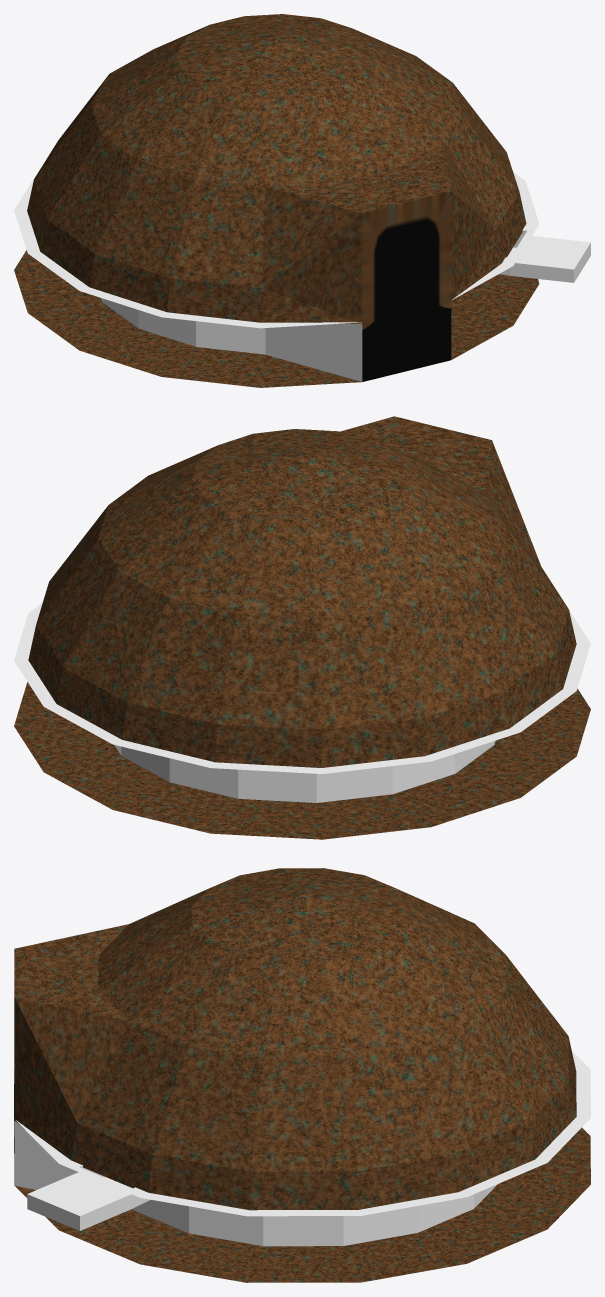
File: dome.glb
The picture shows the model from 3 angles, top to bottom: view 1: azimuth 30°, elevation 25°; view 2: azimuth 150°, elevation 25°; view 3: azimuth 270°, elevation 25°; orthographic projection. The views are drawn at different scales.
Visible parts, largest first — view 1: Sphere, Cylinder, Sphere.002, Cylinder.001; view 2: Sphere, Cylinder, Cylinder.001; view 3: Sphere, Cylinder, Cylinder.001.
Part boxes in pixels (box(x1,y1,x2,y2)): Sphere: box(27, 14, 526, 323); Cylinder: box(14, 250, 539, 387); Sphere.002: box(362, 191, 451, 381); Cylinder.001: box(14, 168, 590, 381); Sphere: box(28, 416, 576, 767); Cylinder: box(14, 682, 590, 839); Cylinder.001: box(14, 603, 590, 802); Sphere: box(14, 868, 576, 1210); Cylinder: box(14, 1127, 590, 1282); Cylinder.001: box(14, 1051, 590, 1246).
Size of the model in its own units: 7.85 by 4 by 7.85.
3 materials, 2 textured.
